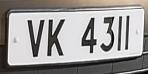1: (123, 9, 134, 57), (117, 11, 127, 57)
3: (100, 11, 117, 58)
4: (78, 11, 100, 60)
K: (45, 15, 67, 61)
V: (24, 16, 45, 60)
